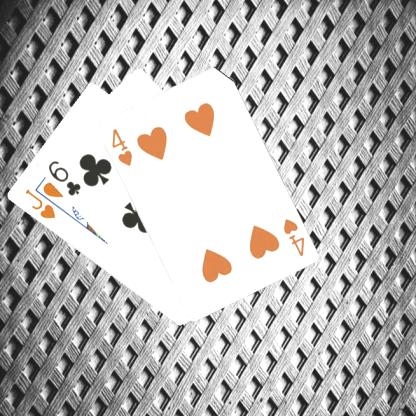4H: (280, 215, 306, 258), (108, 126, 134, 168)
6C: (45, 158, 82, 197)
JH: (22, 186, 57, 220)
